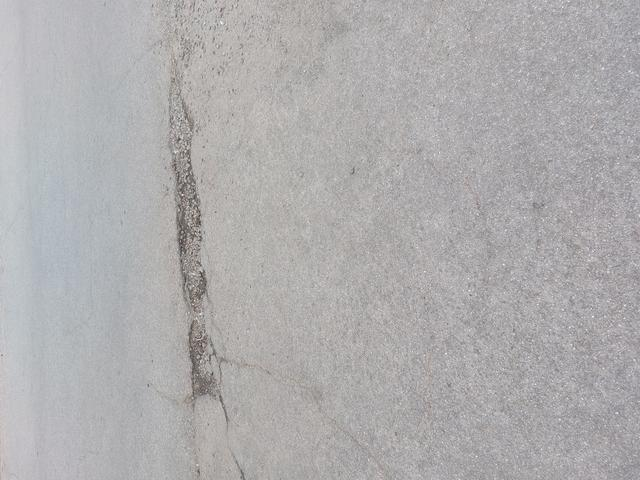pothole: (142, 56, 237, 427)
